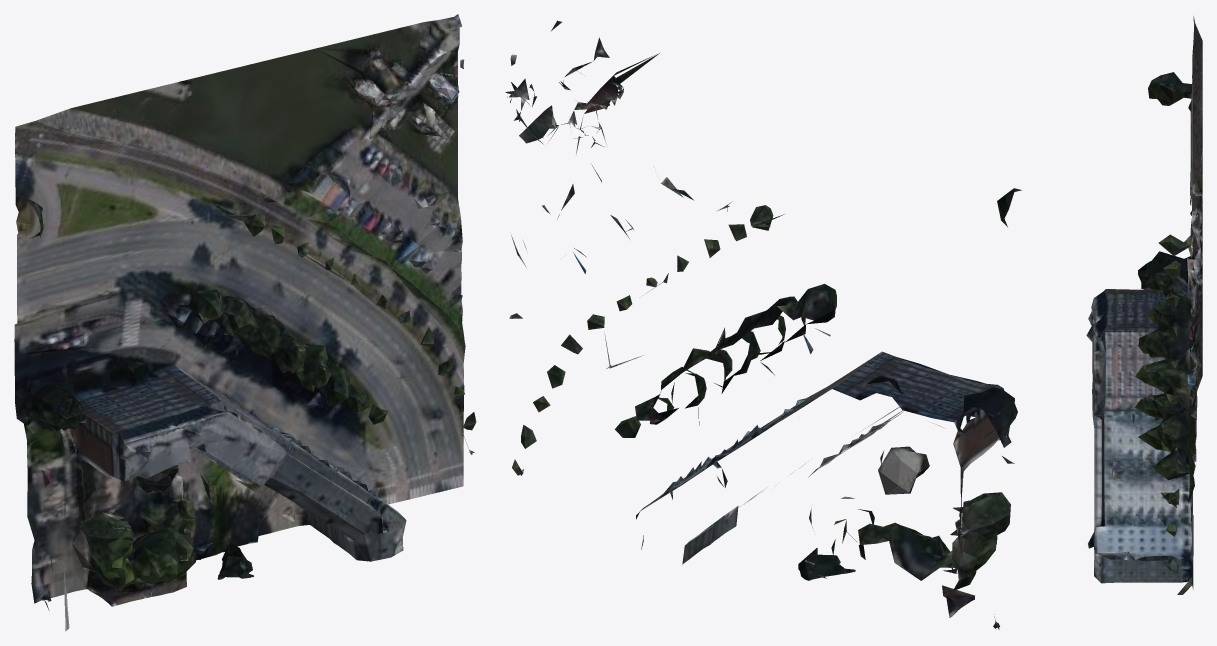
The model's file is Tile_+038_+023_L17_0002.glb.
3 views of the same model, side by side, from view 1: azimuth 30°, elevation 25°; view 2: azimuth 150°, elevation 25°; view 3: azimuth 270°, elevation 25° (orthographic). The views are drawn at different scales.
Size of the model in its own units: 126 by 126 by 31.49.
Materials: 1 (1 with a texture image).
